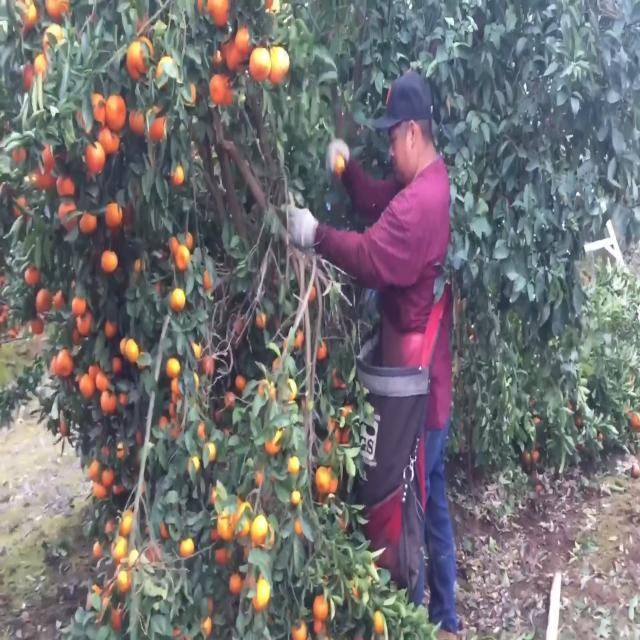Jeruk Sudah Matang: (121, 42, 151, 78), (248, 43, 272, 83), (104, 90, 128, 130), (86, 90, 108, 132), (148, 104, 168, 146), (84, 136, 105, 175), (311, 590, 331, 624), (102, 202, 126, 230), (208, 75, 230, 104), (78, 206, 99, 234), (128, 104, 146, 136), (58, 204, 80, 229), (101, 244, 118, 276), (58, 346, 74, 380), (36, 285, 52, 315), (314, 464, 329, 494), (170, 288, 187, 312), (101, 462, 116, 489), (171, 161, 185, 189), (71, 293, 88, 316), (100, 389, 116, 412), (80, 372, 94, 398), (88, 454, 101, 482), (166, 356, 182, 378), (24, 264, 40, 284), (177, 244, 190, 268), (105, 318, 118, 340)
